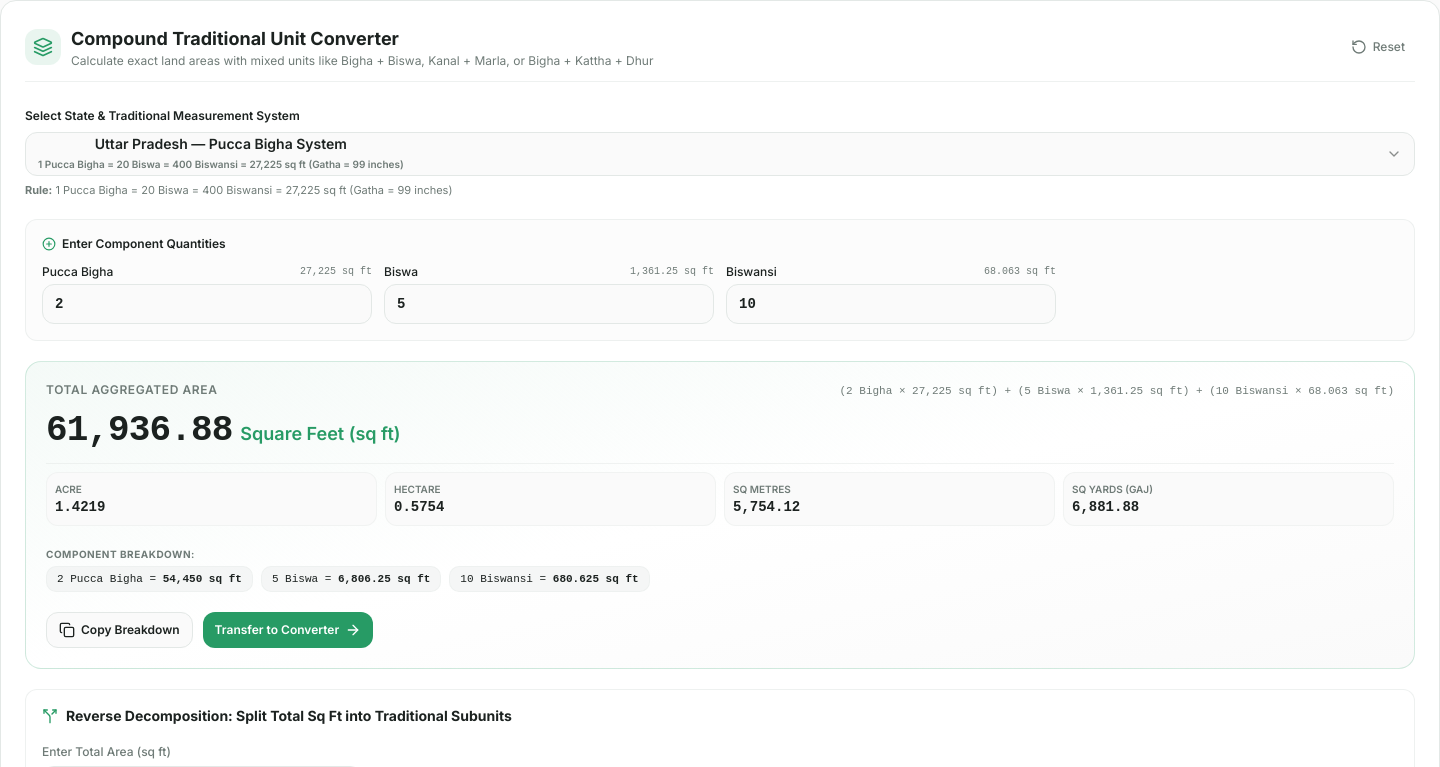
Test case: PR #2 Pre-Merge Remediation Suite › Compound Quantity Validation & TypeScript Integrity (COMPOUND-001 - COMPOUND-019, TYPE-001 - TYPE-002) › COMPOUND-013: Invalid inputs cannot produce copied summaries
The image size is (1440, 767).
Replace the text in the field labelled "Pucca Bigha" with "3/4" at [207, 304], box [42, 284, 372, 324]
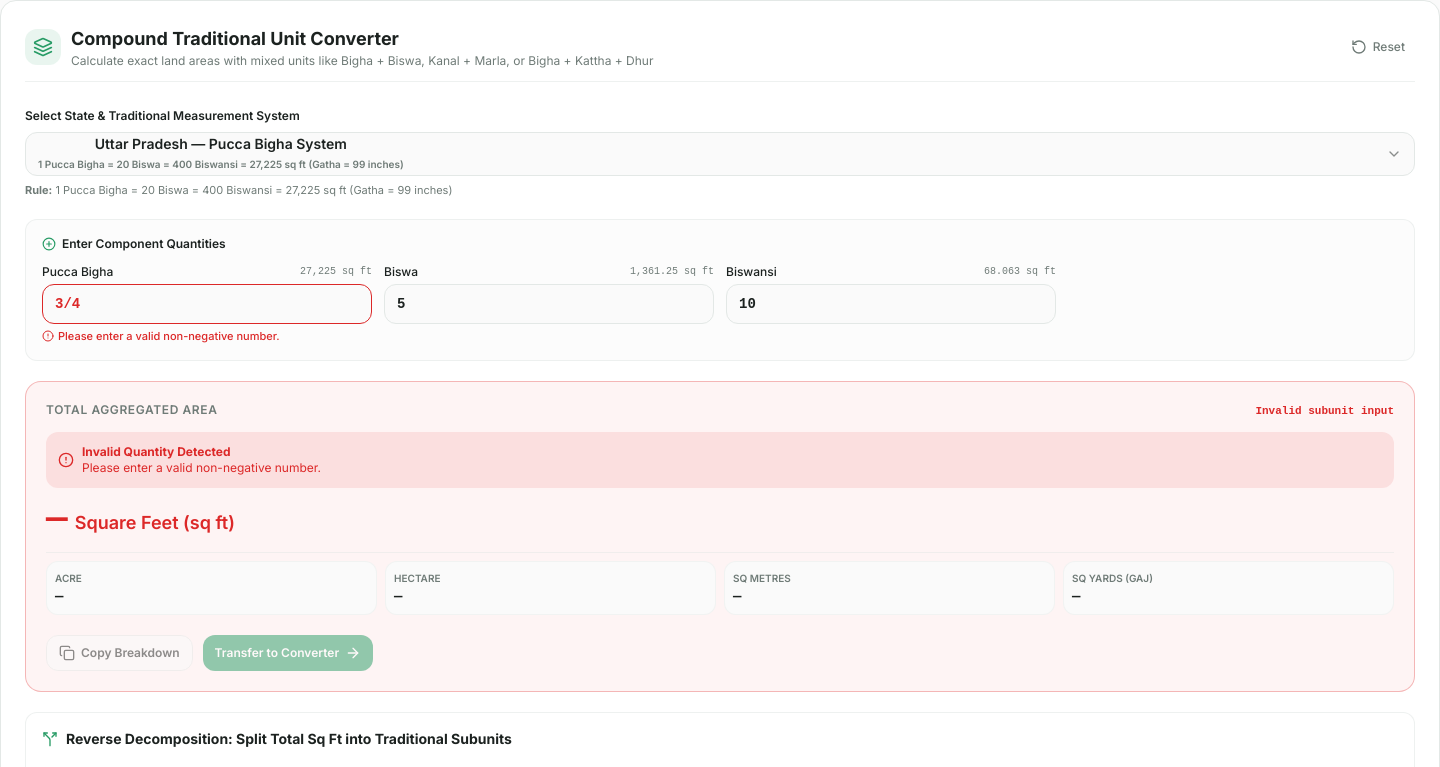
Expected: the button "Copy Breakdown" is disabled, [46, 634, 193, 670]
